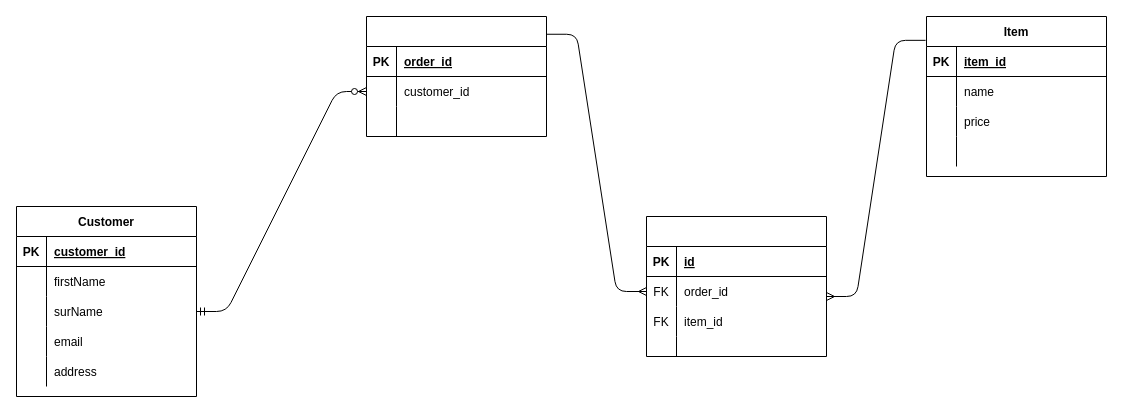
Some shapes in this 1123 by 413 pixel diagram are drawn without their labels. Here are the shapes that lost their labels. From the top down, the box of each, then its label:
(366, 16, 546, 136): Orders
(646, 216, 826, 356): Orders_Items
